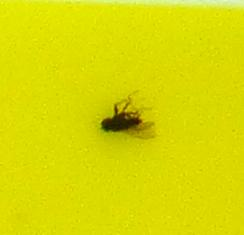Brachycera: (100, 100, 144, 135)
